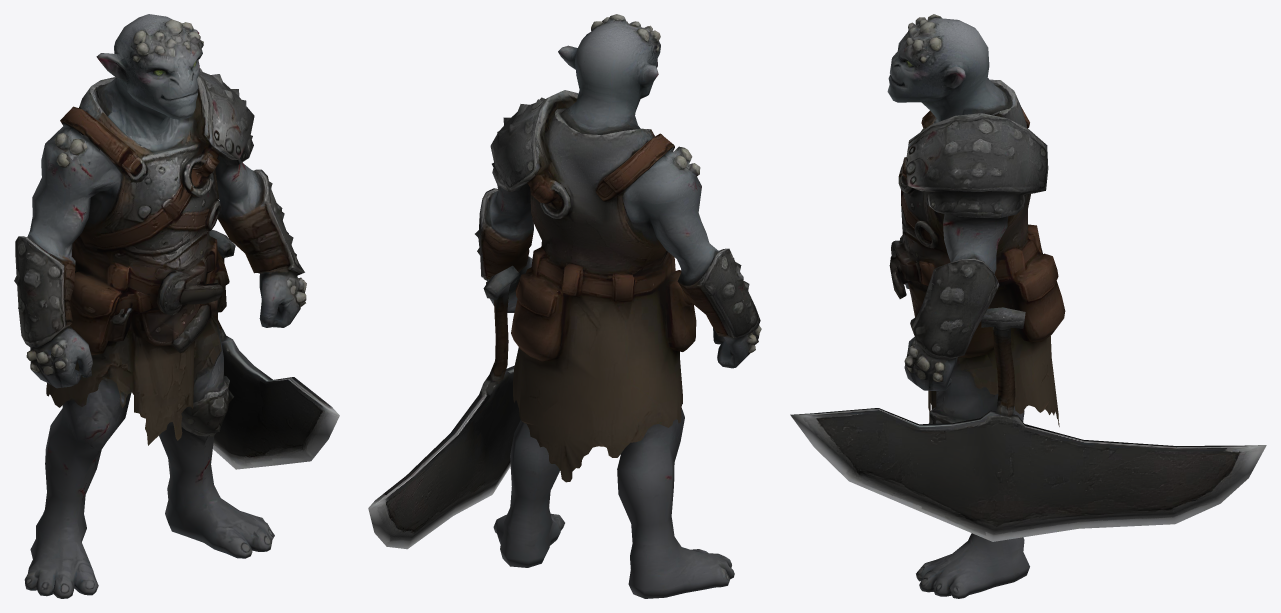
The model's file is selected.glb.
3 renders of one model, left to right at view 1: azimuth 30°, elevation 25°; view 2: azimuth 150°, elevation 25°; view 3: azimuth 270°, elevation 25°, orthographic. The views are drawn at different scales.
Parts seen in each view (by area): view 1: tripo_node_d88fab24-a391-43f0-8e6a-4b304e2a8d8e; view 2: tripo_node_d88fab24-a391-43f0-8e6a-4b304e2a8d8e; view 3: tripo_node_d88fab24-a391-43f0-8e6a-4b304e2a8d8e.
Part boxes in pixels (x1,y1,x2,y2): tripo_node_d88fab24-a391-43f0-8e6a-4b304e2a8d8e: (14,14,339,598); tripo_node_d88fab24-a391-43f0-8e6a-4b304e2a8d8e: (368,14,761,598); tripo_node_d88fab24-a391-43f0-8e6a-4b304e2a8d8e: (790,14,1266,598).
Size of the model in its own units: 0.5293 by 0.998 by 0.8223.
1 material, 1 textured.
